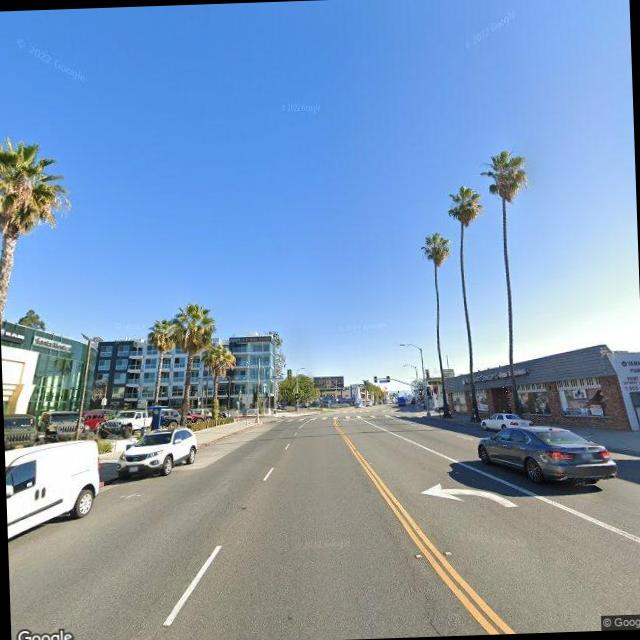crack: (400, 548, 456, 634)
